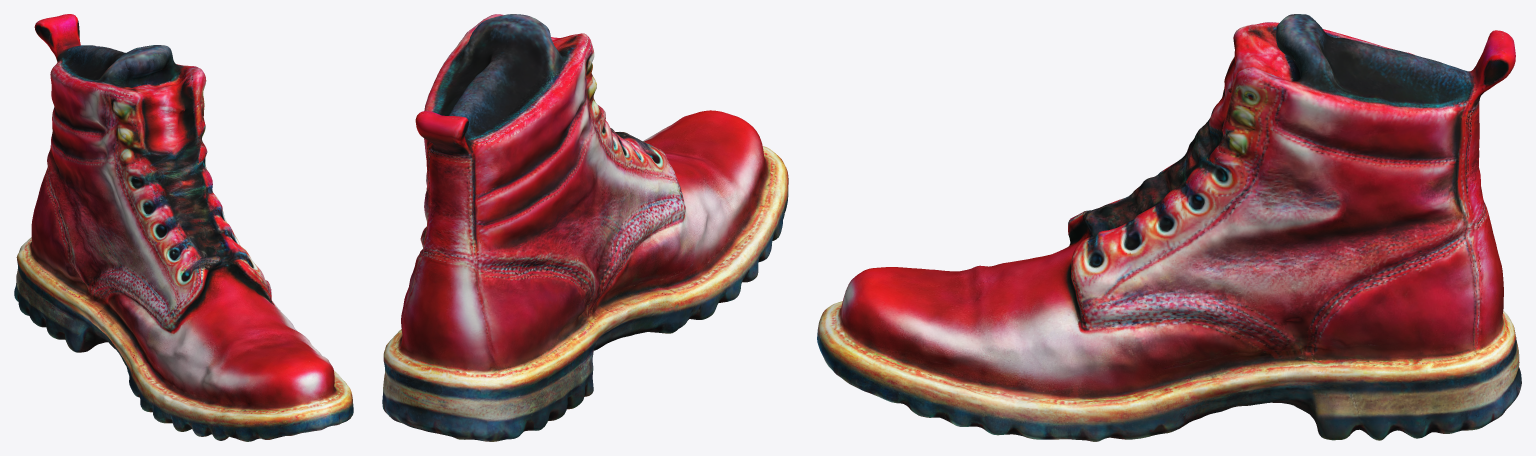
File: boot-red.glb
3 views of the same model, side by side, from view 1: azimuth 30°, elevation 25°; view 2: azimuth 150°, elevation 25°; view 3: azimuth 270°, elevation 25° (orthographic). The views are drawn at different scales.
Size of the model in its own units: 0.4872 by 0.8394 by 1.38.
1 material, 1 textured.
